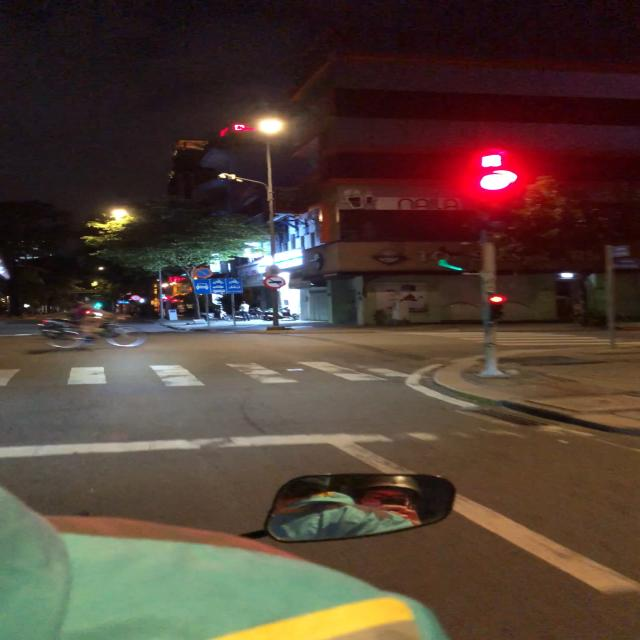Bien bao cam do xe: (192, 266, 215, 280)
Bien bao cam xe so-mi ro-mooc: (262, 274, 291, 290)
